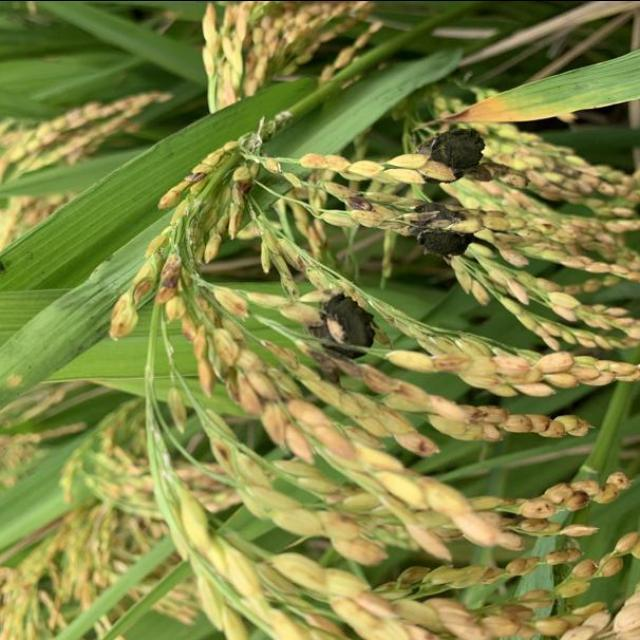Leaf_Scald: (308, 290, 378, 364), (412, 124, 486, 186), (404, 198, 474, 258)
